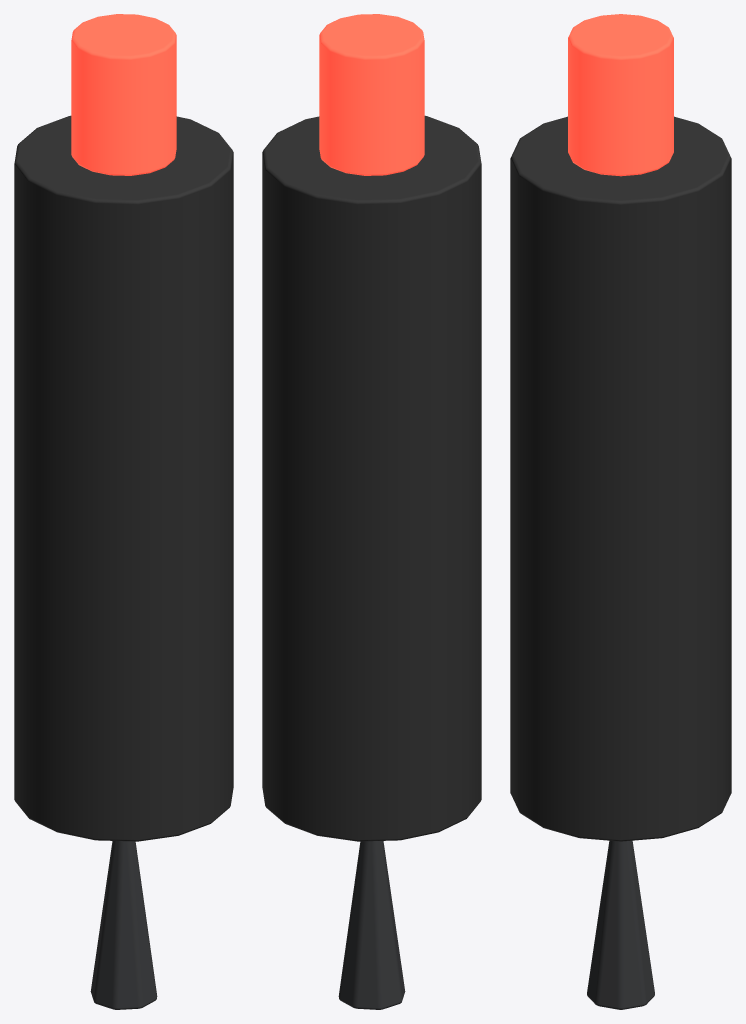
The model's file is spawn_beacon.glb.
3 renders of one model, left to right at view 1: azimuth 30°, elevation 25°; view 2: azimuth 150°, elevation 25°; view 3: azimuth 270°, elevation 25°, orthographic.
Parts seen in each view (by area): view 1: Body, Light, Spike; view 2: Body, Light, Spike; view 3: Body, Light, Spike.
Boxes of the visible parts, <box> form: Body: <box>14,115,233,841</box>; Light: <box>71,14,176,175</box>; Spike: <box>90,841,157,1009</box>; Body: <box>262,115,481,841</box>; Light: <box>319,14,424,175</box>; Spike: <box>338,841,405,1009</box>; Body: <box>510,116,731,841</box>; Light: <box>568,14,673,176</box>; Spike: <box>587,840,654,1009</box>.
Size of the model in its own units: 0.05 by 0.24 by 0.05.
